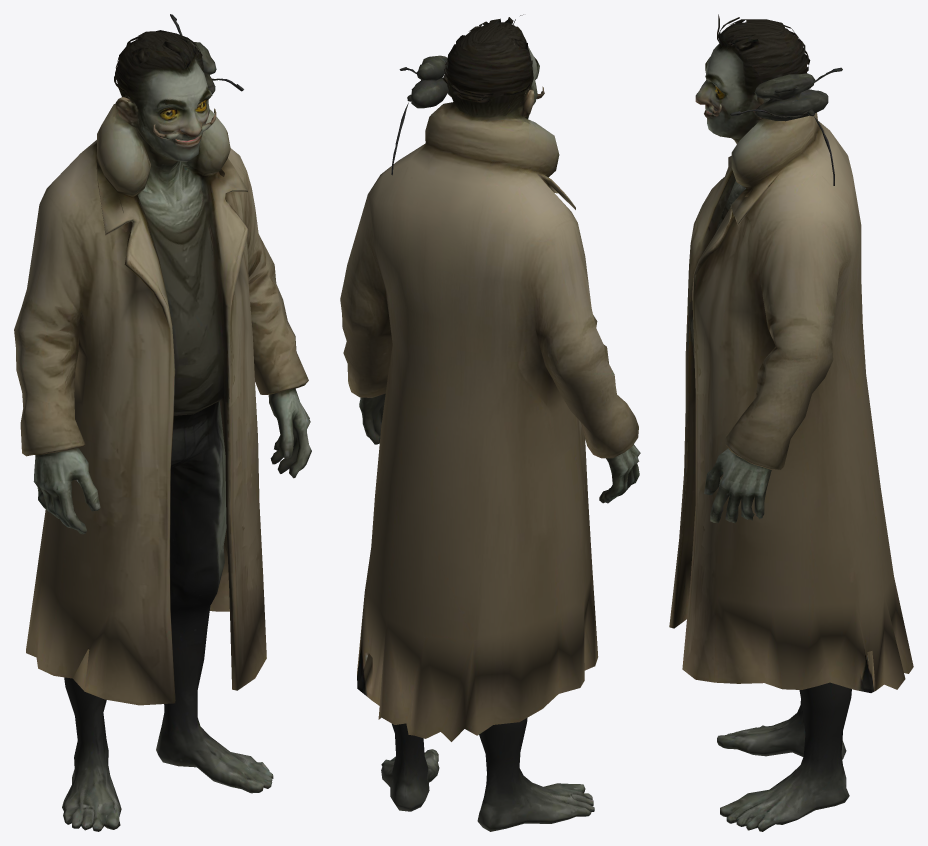
The model's file is 019f4245-6e21-7e9d-8f2f-c13cfab2532e.glb.
3 views of the same model, side by side, from view 1: azimuth 30°, elevation 25°; view 2: azimuth 150°, elevation 25°; view 3: azimuth 270°, elevation 25° (orthographic).
Parts seen in each view (by area): view 1: tripo_node_20203424-82a9-4981-81ad-de01eb94c4c7; view 2: tripo_node_20203424-82a9-4981-81ad-de01eb94c4c7; view 3: tripo_node_20203424-82a9-4981-81ad-de01eb94c4c7.
Boxes of the visible parts, x1,y1,x2,y2 form: tripo_node_20203424-82a9-4981-81ad-de01eb94c4c7: (14,14,311,831); tripo_node_20203424-82a9-4981-81ad-de01eb94c4c7: (340,14,640,831); tripo_node_20203424-82a9-4981-81ad-de01eb94c4c7: (669,14,913,831).
Bounding box in the file's own units: 0.3809 × 0.998 × 0.291.
Materials: 1 (1 with a texture image).
